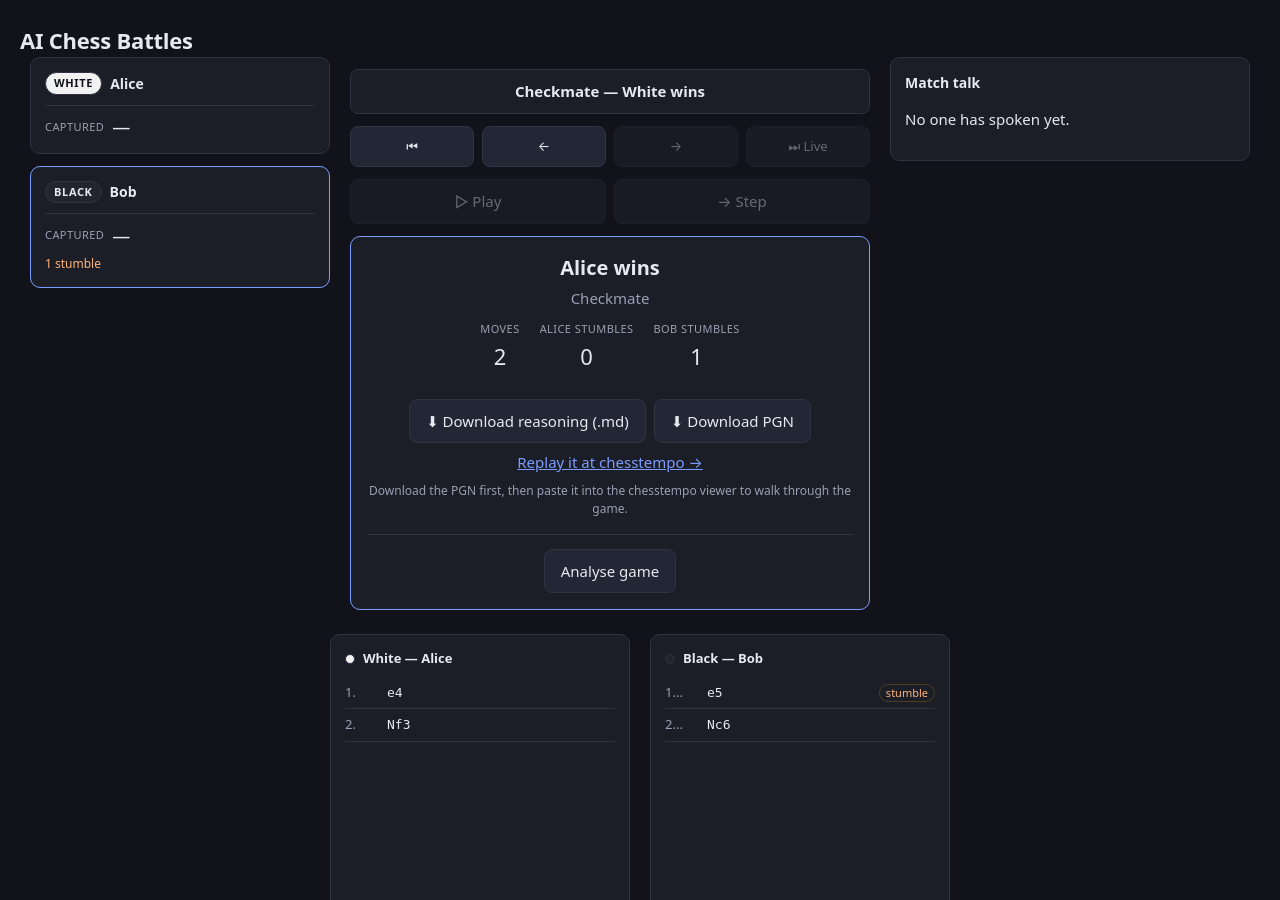
Scenario: MatchScreen analysis › runs the engine only when asked, over every position in the game
This screenshot has width=1280, height=900.
Click the button "Analyse game": (610, 571) [544, 548, 676, 593]
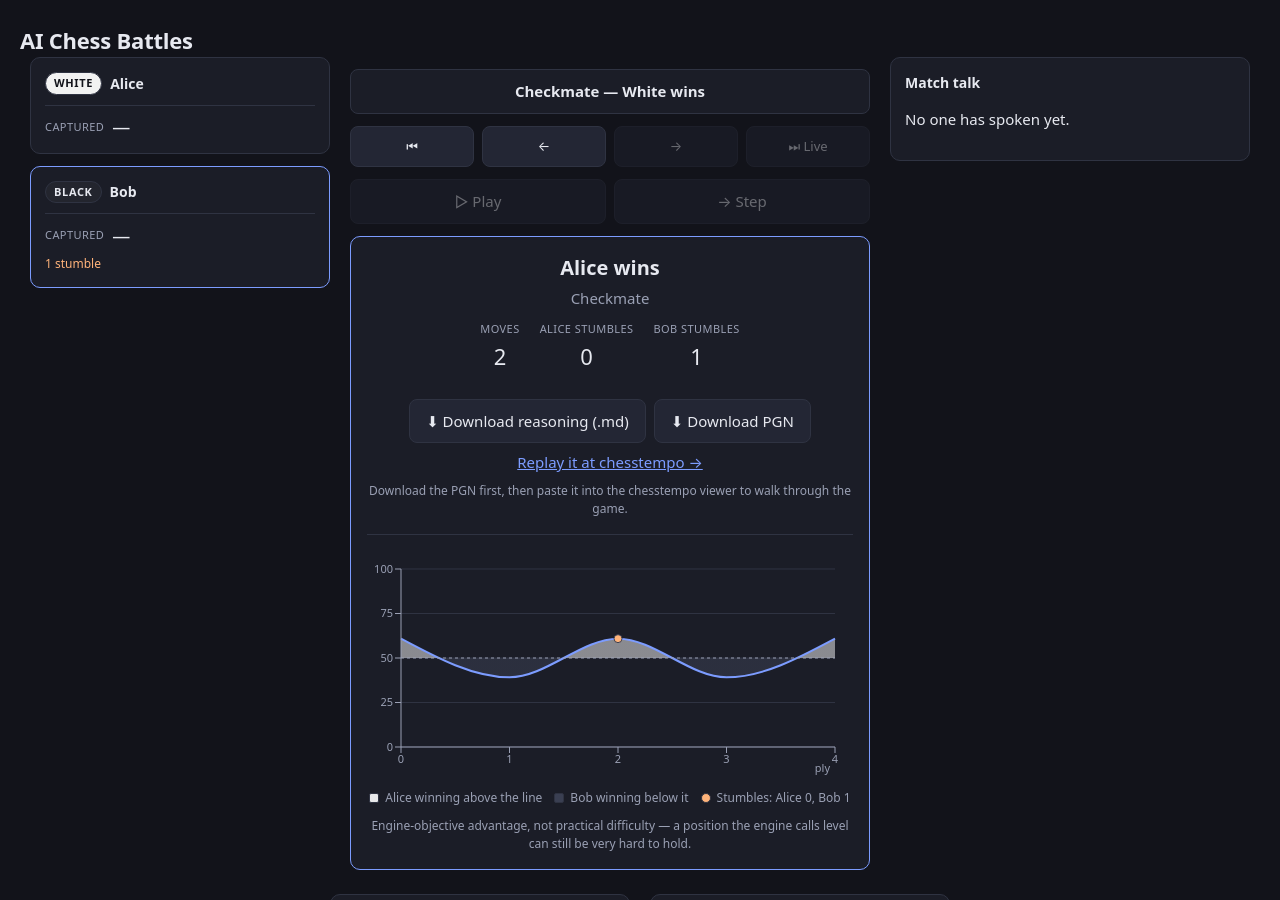
Expected: the text "Engine-objective advantage" is shown, [371, 816, 848, 852]
